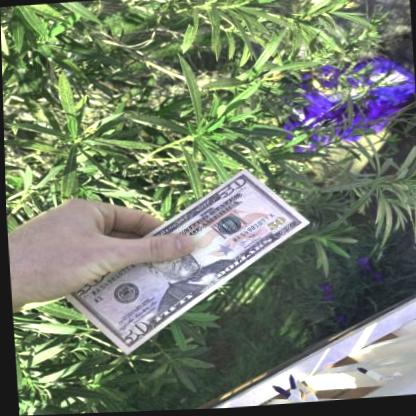fifty-front: (60, 170, 309, 357)
